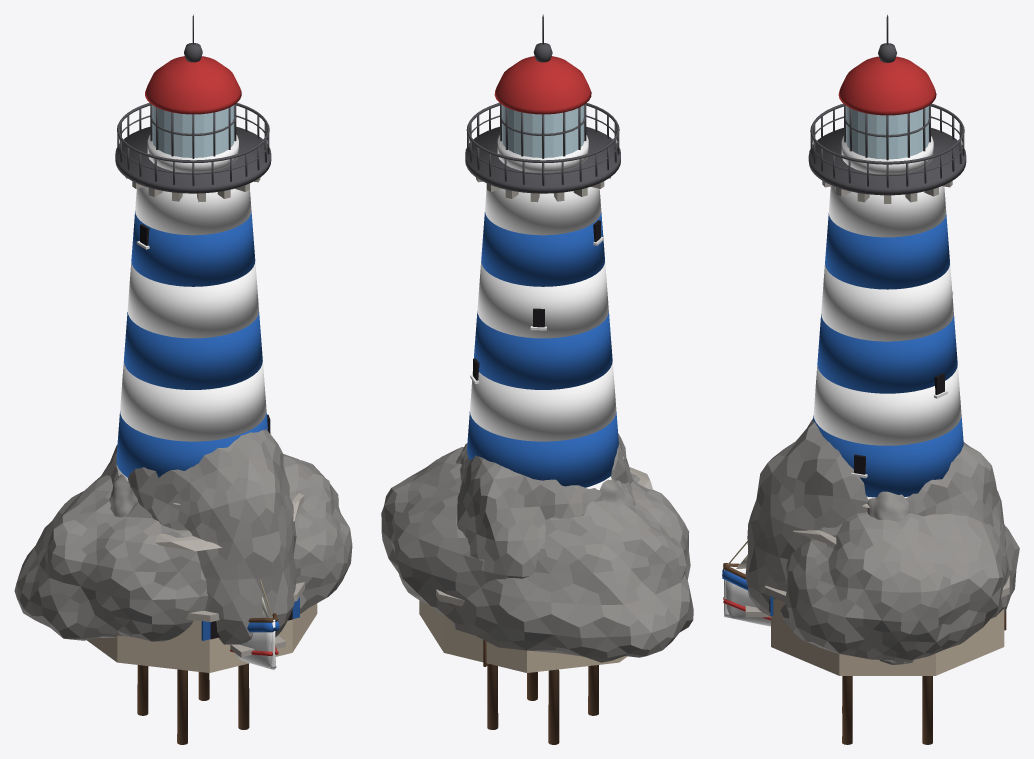
File: Island.glb
3 renders of one model, left to right at view 1: azimuth 30°, elevation 25°; view 2: azimuth 150°, elevation 25°; view 3: azimuth 270°, elevation 25°, orthographic.
Visible parts, largest first — view 1: IslandCliff1__Rock_S1, IslandCliff2__Rock_S1, IslandLighthouse__White_1, IslandLighthouse__Blue_1, IslandLighthouse__Iron_1, IslandLighthouse__StoneWarm_S1, IslandLighthouse__Red_1, IslandLighthouse__Glass_1, IslandPier__WoodDark_1, IslandLighthouse__Stone_1, IslandBoat__White_1, IslandCliff1__Stone_1 (+1 smaller); view 2: IslandCliff1__Rock_S1, IslandLighthouse__White_1, IslandLighthouse__Blue_1, IslandCliff2__Rock_S1, IslandLighthouse__Iron_1, IslandLighthouse__Red_1, IslandLighthouse__StoneWarm_S1, IslandLighthouse__Glass_1, IslandPier__WoodDark_1, IslandLighthouse__Stone_1, IslandArch__Rock_S1; view 3: IslandCliff1__Rock_S1, IslandLighthouse__White_1, IslandLighthouse__Blue_1, IslandCliff2__Rock_S1, IslandLighthouse__Iron_1, IslandLighthouse__StoneWarm_S1, IslandLighthouse__Red_1, IslandLighthouse__Glass_1, IslandPier__WoodDark_1, IslandArch__Rock_S1, IslandLighthouse__Stone_1, IslandBoat__White_1.
Part boxes in pixels (x1,y1,x2,y2): IslandCliff1__Rock_S1: (14, 454, 352, 641); IslandCliff2__Rock_S1: (101, 429, 296, 644); IslandLighthouse__White_1: (116, 135, 272, 481); IslandLighthouse__Blue_1: (116, 211, 299, 640); IslandLighthouse__Iron_1: (115, 14, 271, 193); IslandLighthouse__StoneWarm_S1: (87, 603, 317, 672); IslandLighthouse__Red_1: (145, 56, 241, 114); IslandLighthouse__Glass_1: (152, 105, 234, 157); IslandPier__WoodDark_1: (137, 663, 249, 744); IslandLighthouse__Stone_1: (125, 177, 305, 657); IslandBoat__White_1: (235, 615, 276, 670); IslandCliff1__Stone_1: (155, 493, 304, 551); IslandCliff1__Rock_S1: (381, 447, 693, 662); IslandLighthouse__White_1: (470, 135, 616, 489); IslandLighthouse__Blue_1: (467, 212, 618, 487); IslandCliff2__Rock_S1: (457, 433, 632, 582); IslandLighthouse__Iron_1: (465, 14, 620, 193); IslandLighthouse__Red_1: (494, 56, 591, 114); IslandLighthouse__StoneWarm_S1: (419, 600, 627, 672); IslandLighthouse__Glass_1: (502, 105, 584, 157); IslandPier__WoodDark_1: (487, 664, 598, 744); IslandLighthouse__Stone_1: (436, 177, 610, 606); IslandArch__Rock_S1: (456, 443, 635, 506); IslandCliff1__Rock_S1: (780, 512, 1019, 663); IslandLighthouse__White_1: (813, 136, 961, 499); IslandLighthouse__Blue_1: (770, 213, 963, 615); IslandCliff2__Rock_S1: (745, 418, 1005, 617); IslandLighthouse__Iron_1: (808, 14, 966, 195); IslandLighthouse__StoneWarm_S1: (771, 599, 1004, 675); IslandLighthouse__Red_1: (838, 56, 936, 115); IslandLighthouse__Glass_1: (846, 106, 928, 159); IslandPier__WoodDark_1: (842, 676, 932, 744); IslandArch__Rock_S1: (867, 491, 913, 664); IslandLighthouse__Stone_1: (745, 181, 1009, 617); IslandBoat__White_1: (724, 566, 770, 626).
Bounding box in the file's own units: 46.56 × 106 × 40.1.
